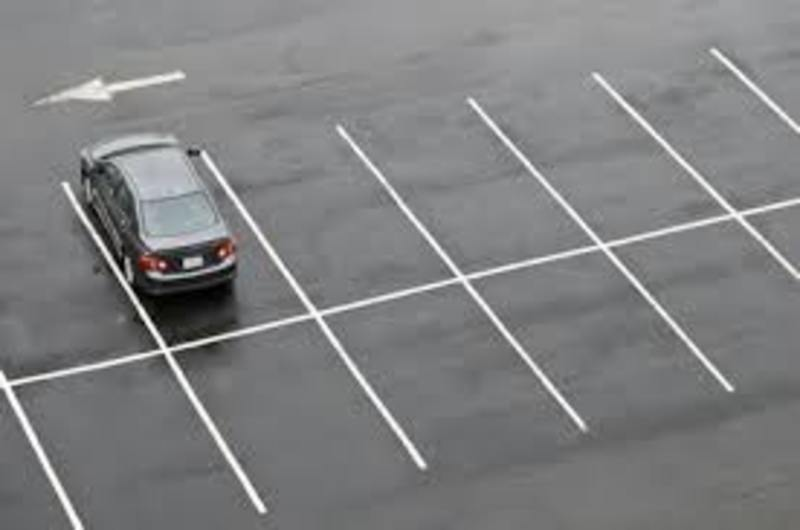car: (80, 128, 248, 296)
